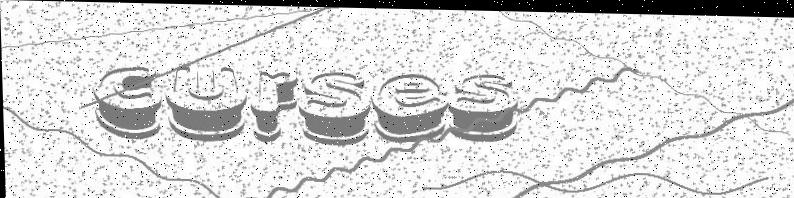c: (90, 64, 162, 141)
e: (370, 69, 447, 143)
r: (248, 69, 299, 143)
s: (296, 69, 372, 146), (446, 71, 519, 141)
u: (163, 62, 248, 142)
